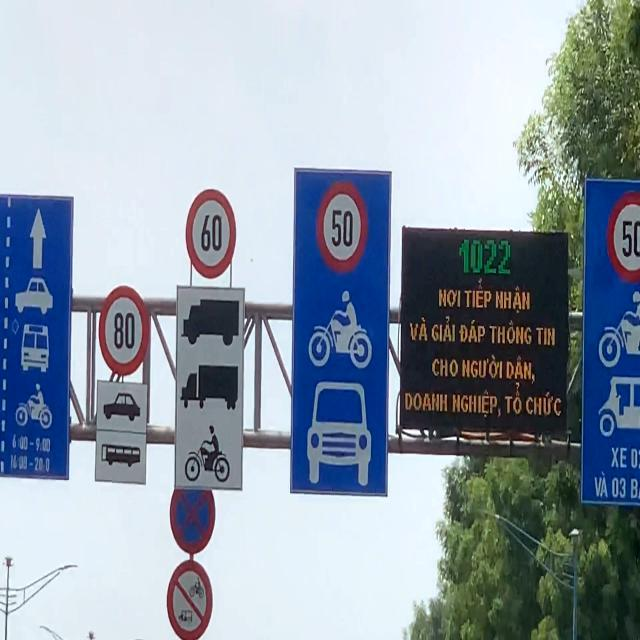Toc do toi da cho phep: (317, 180, 368, 276), (186, 183, 236, 279), (98, 286, 150, 376)
